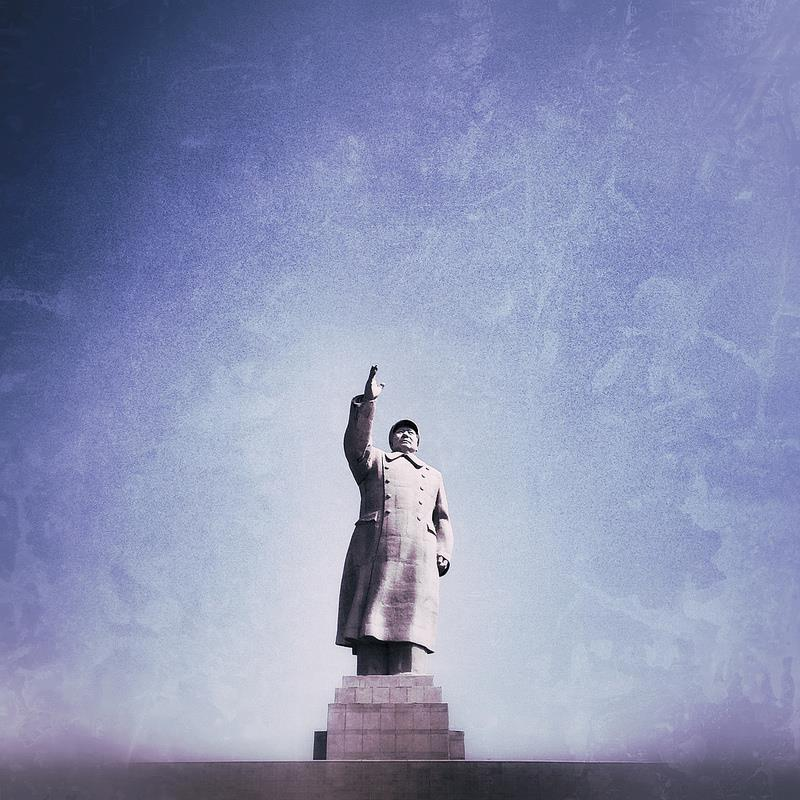Chairman_Mao_Statue: (330, 351, 461, 663)
